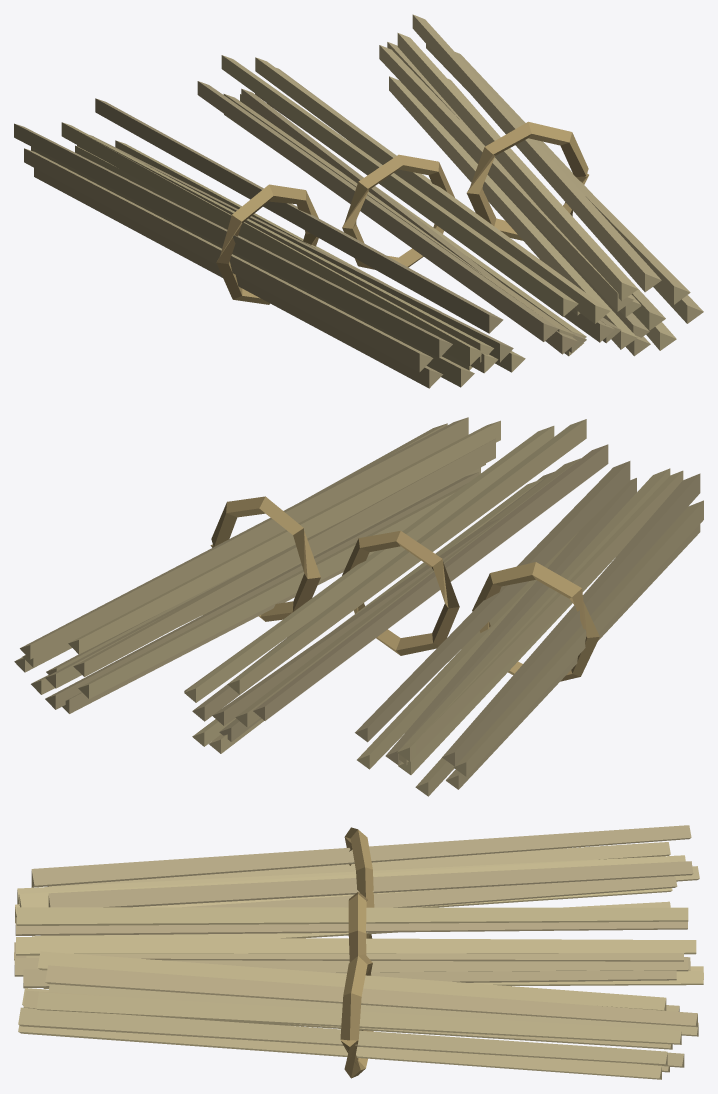
Rendered from storage_flax_fiber.glb.
3 views of the same model, one above another, from view 1: azimuth 30°, elevation 25°; view 2: azimuth 150°, elevation 25°; view 3: azimuth 270°, elevation 25° (orthographic). The views are drawn at different scales.
Parts seen in each view (by area): view 1: storage_flax_fiber; view 2: storage_flax_fiber; view 3: storage_flax_fiber.
Boxes of the visible parts, left/top/right/bottom form: storage_flax_fiber: left=14, top=14, right=703, bottom=388; storage_flax_fiber: left=14, top=417, right=703, bottom=796; storage_flax_fiber: left=14, top=825, right=703, bottom=1079.
Size of the model in its own units: 1.01 by 0.2696 by 1.39.
